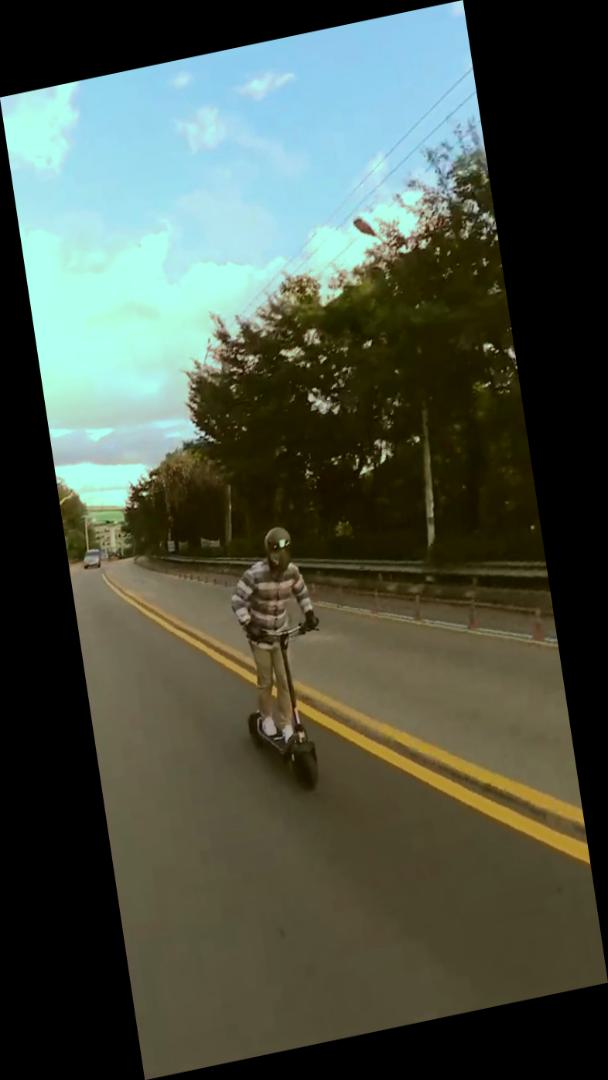helmet: (217, 515, 347, 803)
